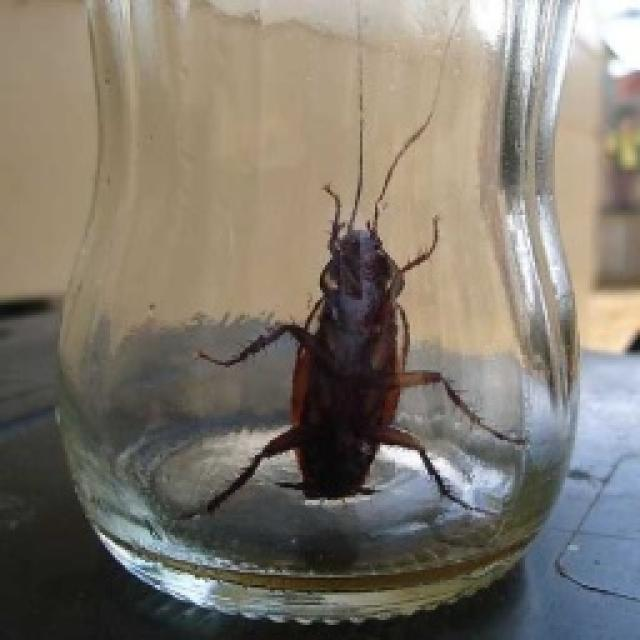cockroach: (238, 147, 460, 554)
